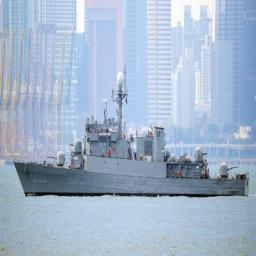Fragata: (14, 69, 252, 202)
